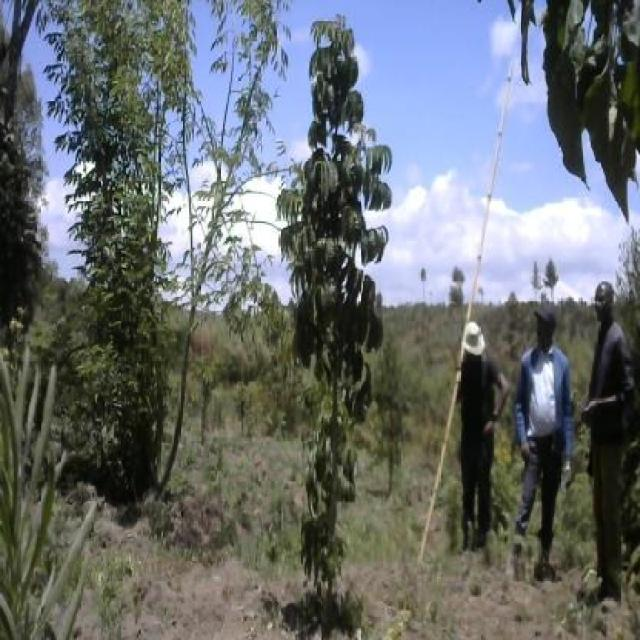tree trunk: (311, 37, 355, 628)
